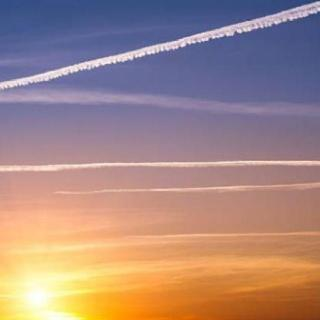Contrails: (0, 0, 320, 278)
